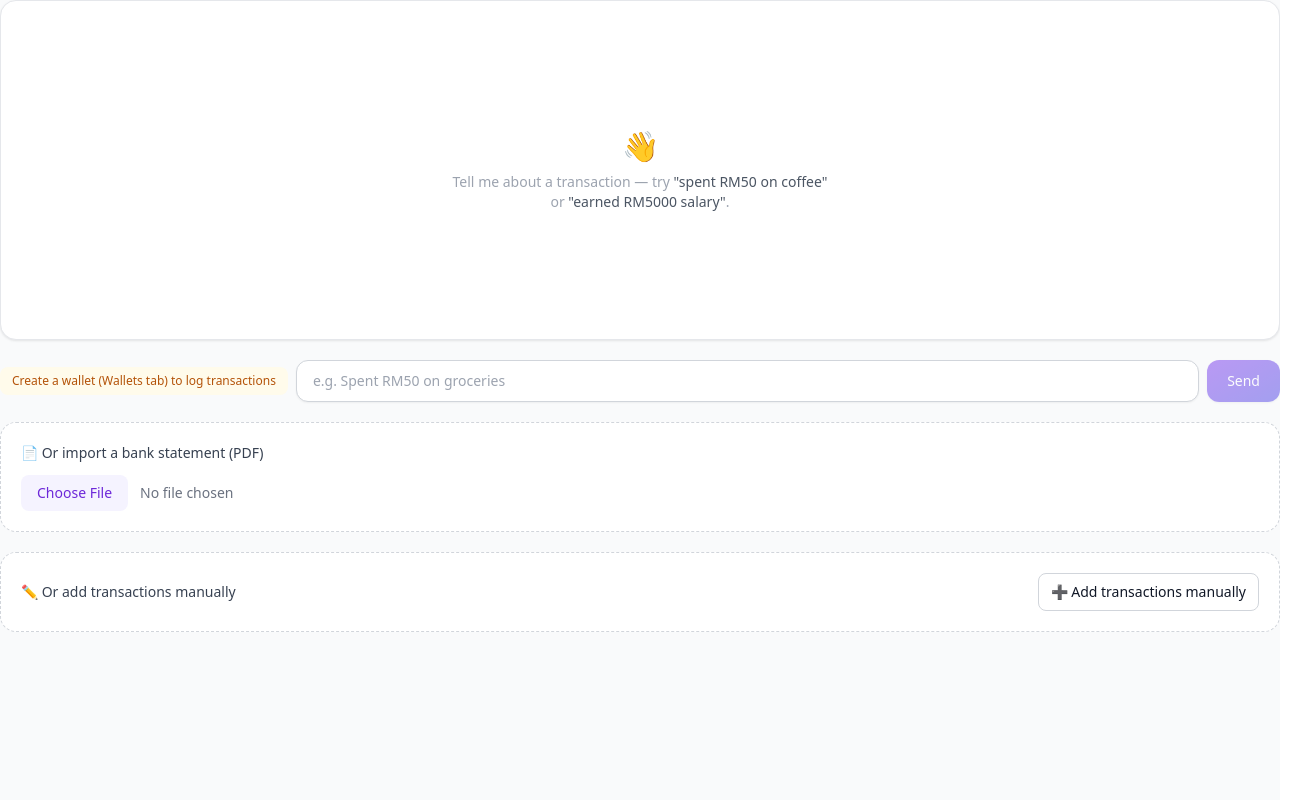
ChatInterface — manual entry › reveals a one-row table without a Count column when opened
The width and height of the screenshot is (1292, 800).
Expected: the text "Enter transactions" is not shown
Click the button "➕ Add transactions manually": (1148, 592) x1=1038 y1=573 x2=1259 y2=611
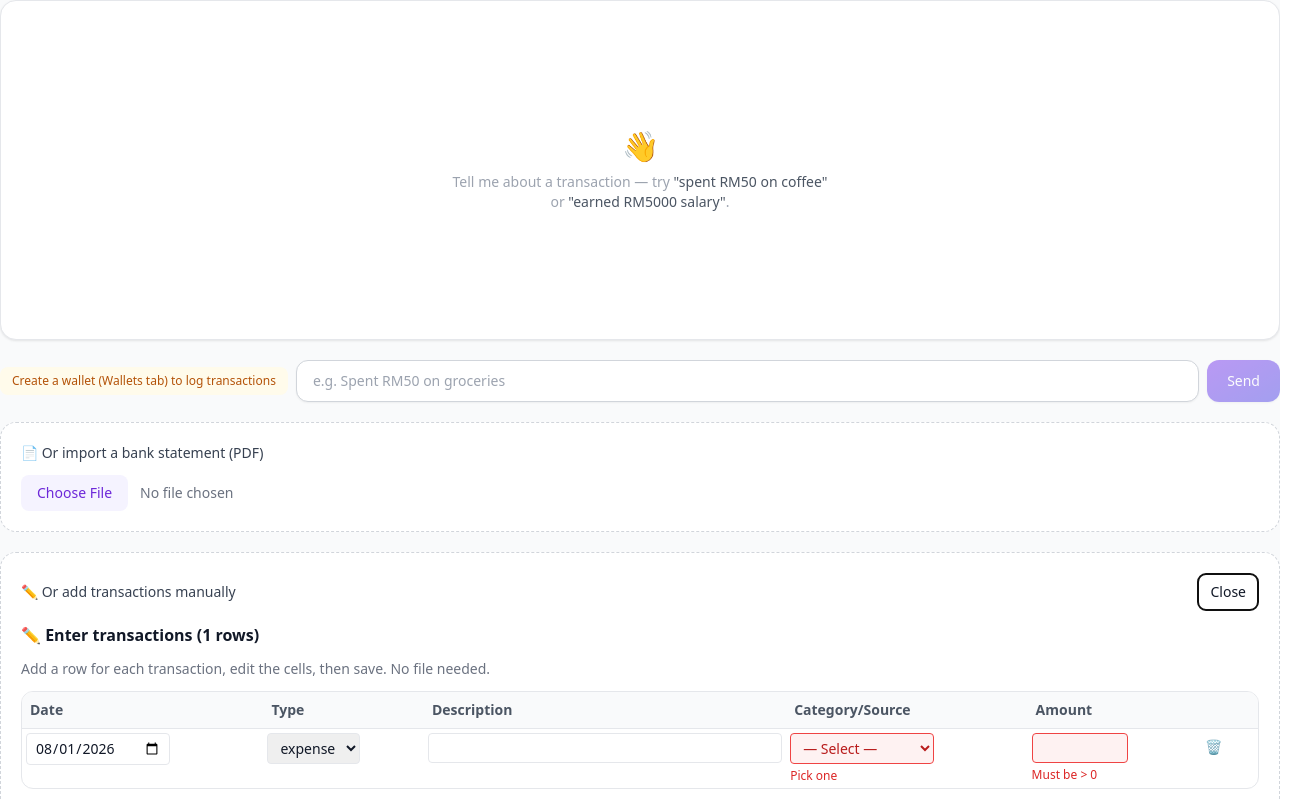
Now the heading "✏️ Enter transactions (1 rows)" is shown, box x1=21 y1=624 x2=259 y2=646
